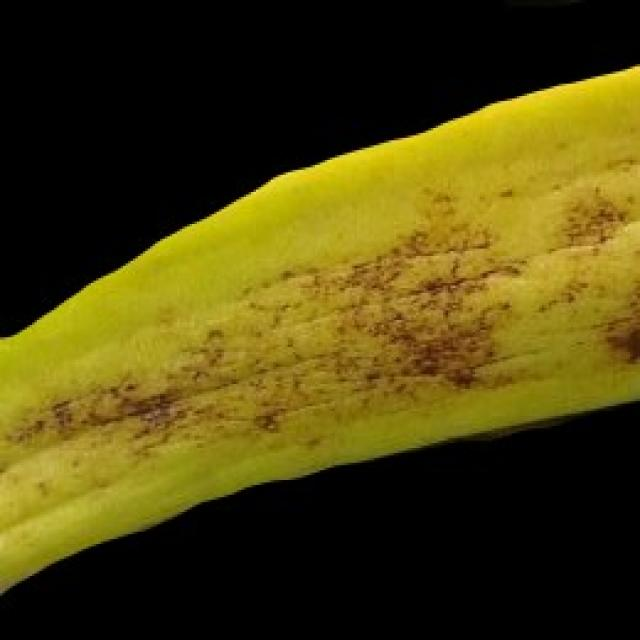mite: (556, 185, 638, 367), (475, 0, 638, 12), (251, 406, 281, 433), (623, 322, 638, 364)
